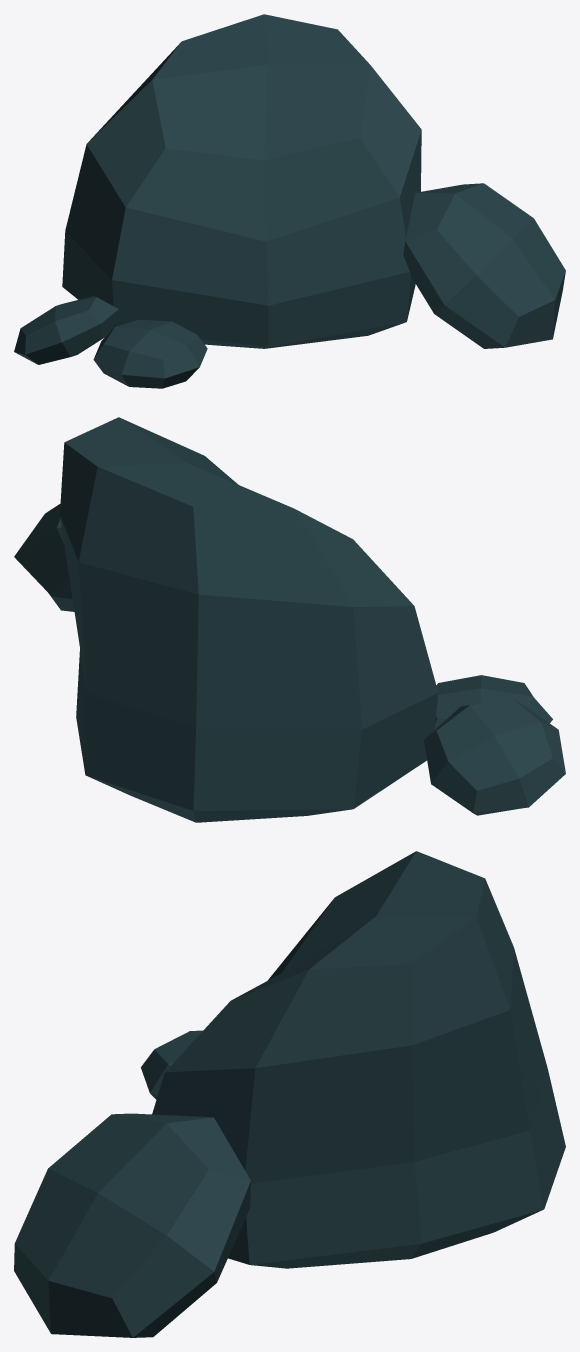
File: Piedracolor.fbx
3 renders of one model, top to bottom at view 1: azimuth 30°, elevation 25°; view 2: azimuth 150°, elevation 25°; view 3: azimuth 270°, elevation 25°, orthographic. The views are drawn at different scales.
Visible parts, largest first — view 1: Piedras; view 2: Piedras; view 3: Piedras.
Part boxes in pixels (box(x1,y1,x2,y2)): Piedras: box(14, 14, 565, 388); Piedras: box(14, 417, 565, 822); Piedras: box(14, 851, 565, 1337).
Bounding box in the file's own units: 16.26 × 8.32 × 12.
